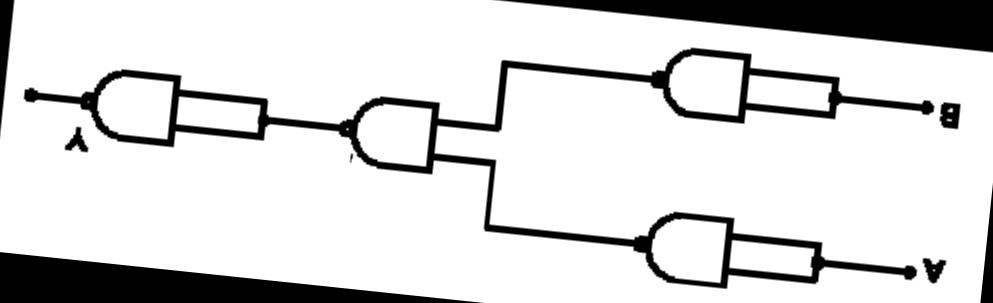nand: (616, 187, 749, 303), (326, 77, 452, 187), (637, 30, 762, 130), (69, 54, 191, 156)
